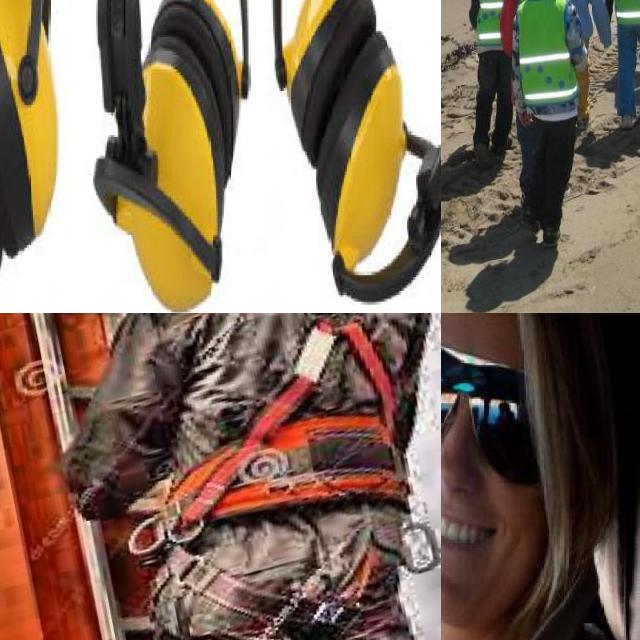Ear-protection: (99, 0, 249, 290), (288, 0, 441, 284)
Harness: (169, 313, 399, 531)
face_nomask: (441, 344, 547, 573)
glasses: (441, 333, 546, 468)
vest: (517, 0, 575, 109), (468, 0, 512, 47)
